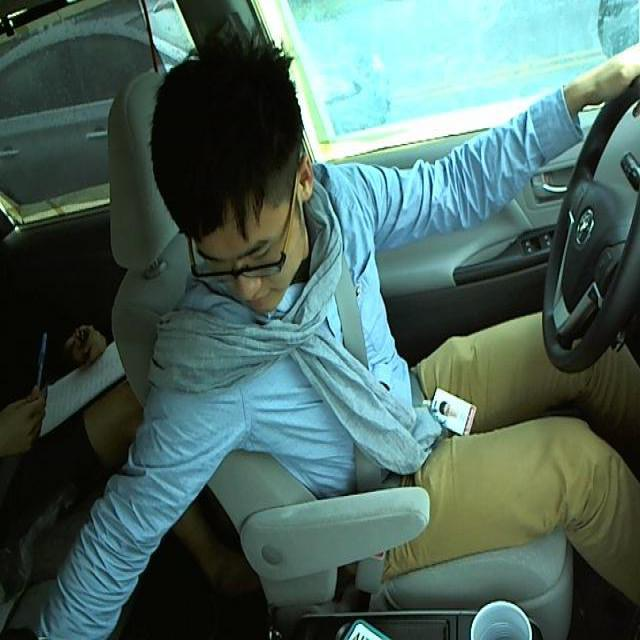seatbelt: (335, 280, 387, 493)
